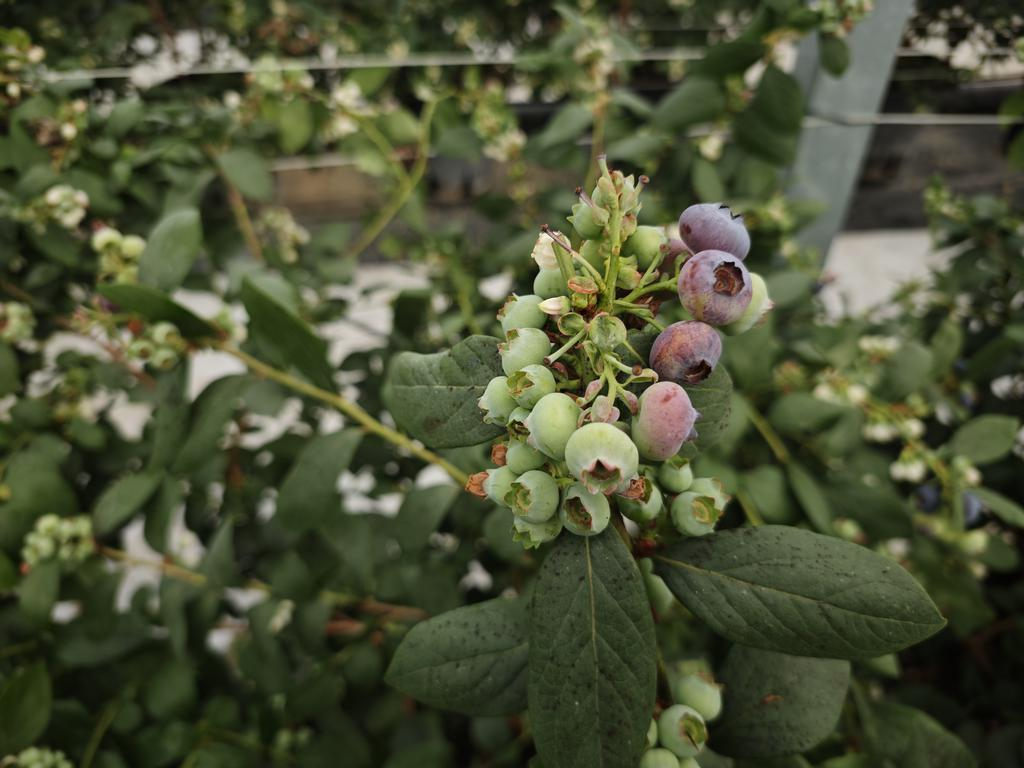Semi-RipeBlueBerry: (676, 251, 755, 323), (634, 383, 701, 463), (648, 321, 724, 384), (675, 201, 753, 260)
UnripeBlueBerry: (562, 423, 641, 491)
